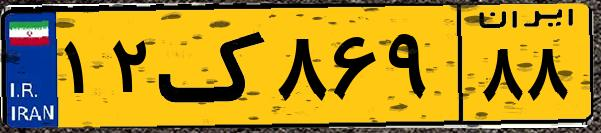1: (57, 26, 110, 100)
2: (110, 28, 158, 98)
6: (330, 28, 385, 110)
8: (270, 28, 330, 110), (475, 38, 525, 113), (525, 38, 570, 115)
9: (385, 28, 445, 110)
ک: (158, 12, 270, 120)
